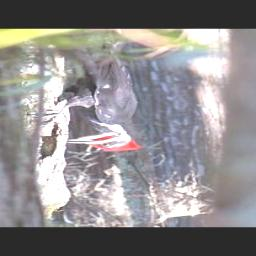Woodpecker: (26, 36, 145, 152)
